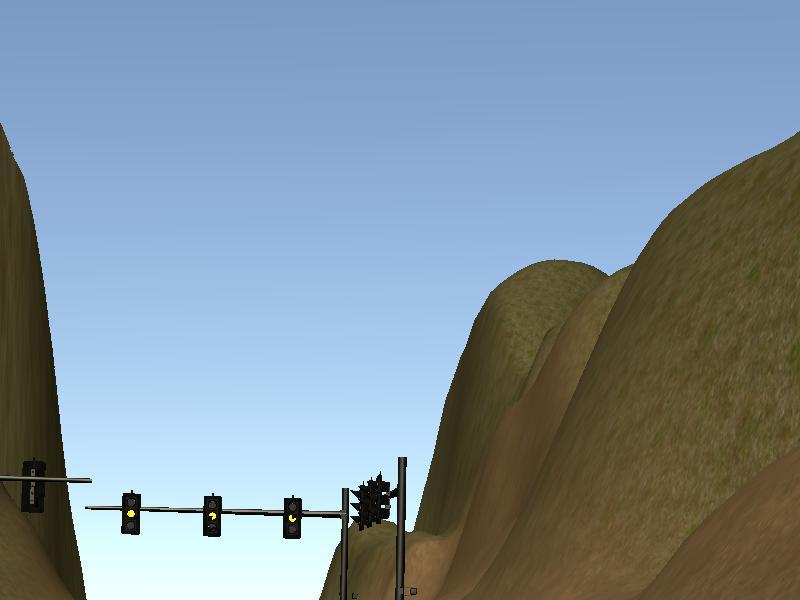Yellow: (122, 494, 140, 535), (284, 499, 302, 538), (203, 497, 221, 535)
